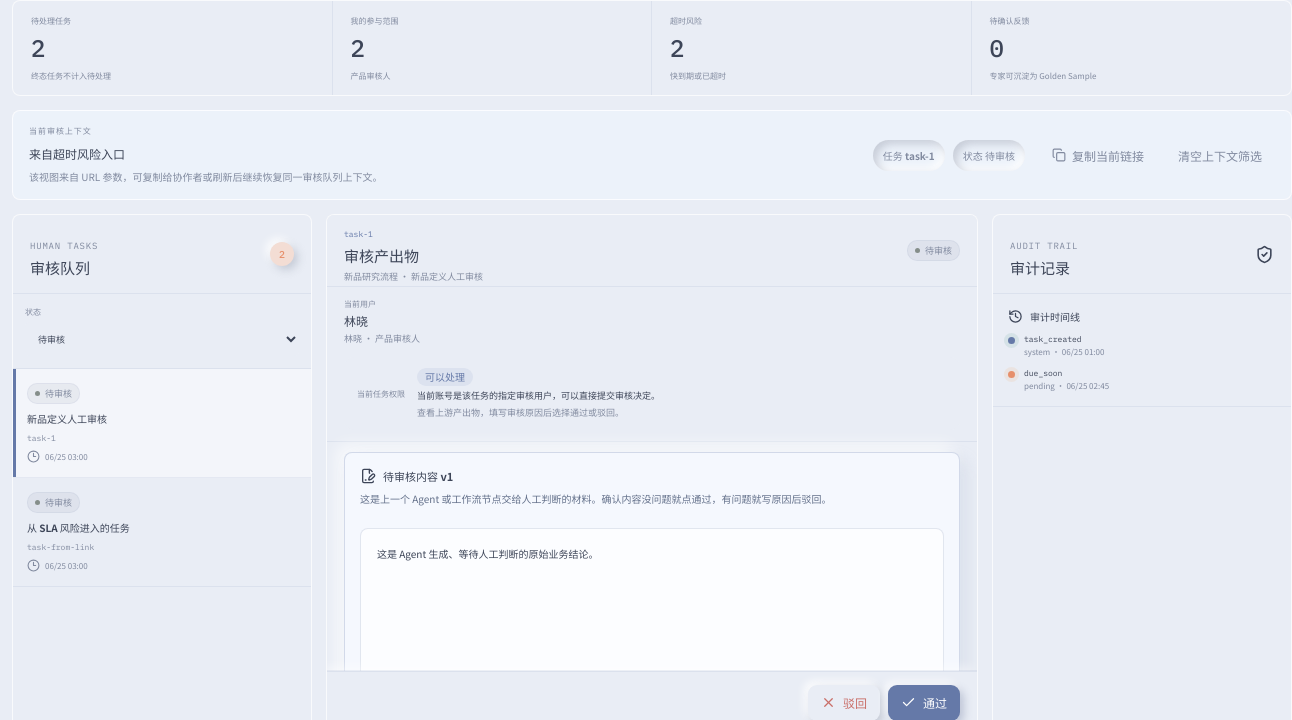
Test: Reviews › syncs review queue filters to the URL while preserving the selected task
The image size is (1292, 720).
Expected: the text "这是 Agent 生成、等待人工判断的原始业务结论。" is shown, [360, 528, 944, 708]
Select "已通过" in the dropdown named "任务状态筛选" at (162, 339), box [25, 322, 299, 356]
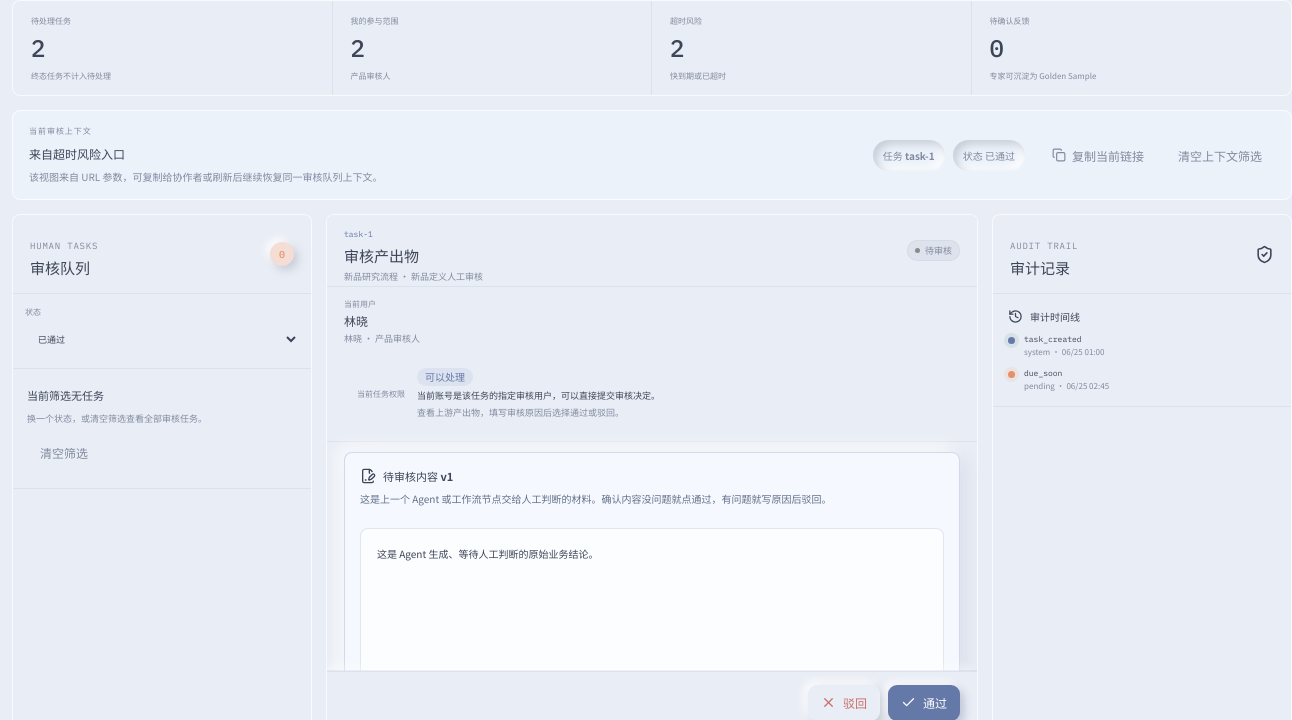
Expected: the text "task-1" is shown, [344, 229, 373, 239]
Now the text "当前筛选无任务" is shown, box [27, 387, 104, 403]
